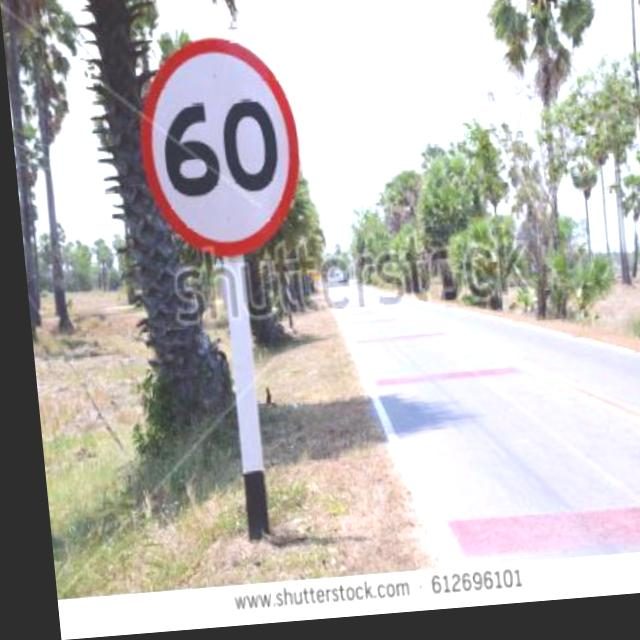limit60: (125, 31, 307, 269)
